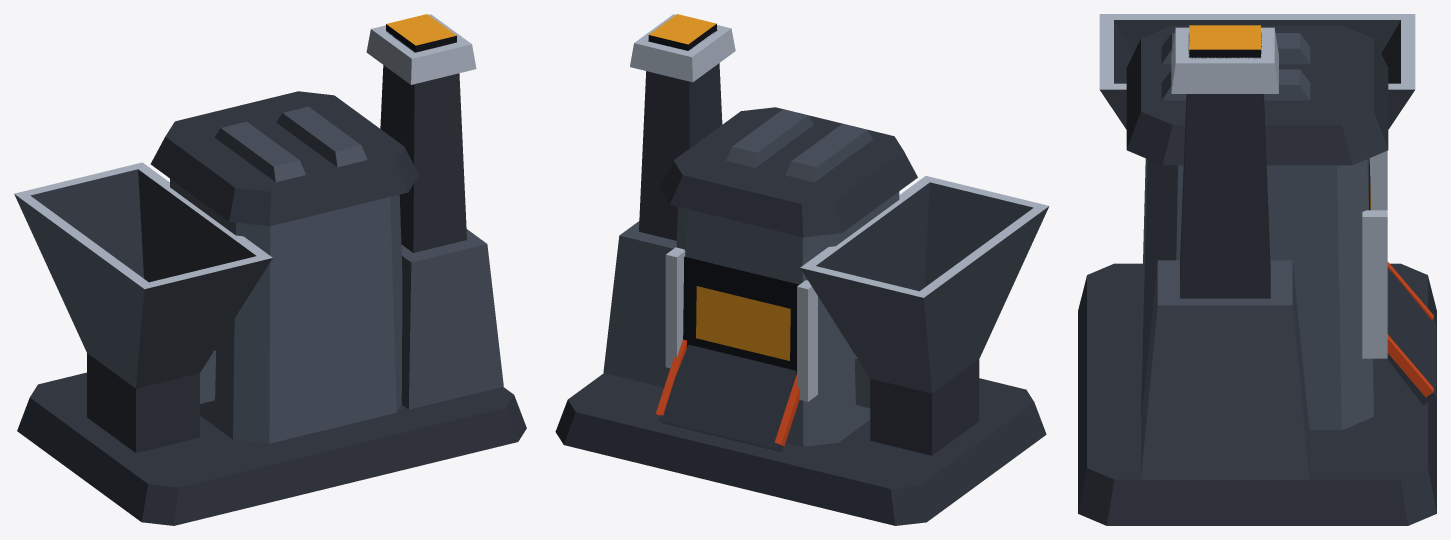
Rendered from SM_Foundry_LOD0.fbx.
The picture shows the model from 3 angles, left to right: view 1: azimuth 30°, elevation 25°; view 2: azimuth 150°, elevation 25°; view 3: azimuth 270°, elevation 25°; orthographic projection. The views are drawn at different scales.
Visible parts, largest first — view 1: SM_Foundry_LOD0; view 2: SM_Foundry_LOD0; view 3: SM_Foundry_LOD0.
Part boxes in pixels (x1,y1,x2,y2): SM_Foundry_LOD0: (14,14,526,525); SM_Foundry_LOD0: (555,14,1049,525); SM_Foundry_LOD0: (1078,14,1436,525).
Bounding box in the file's own units: 3 × 2.8 × 2.
